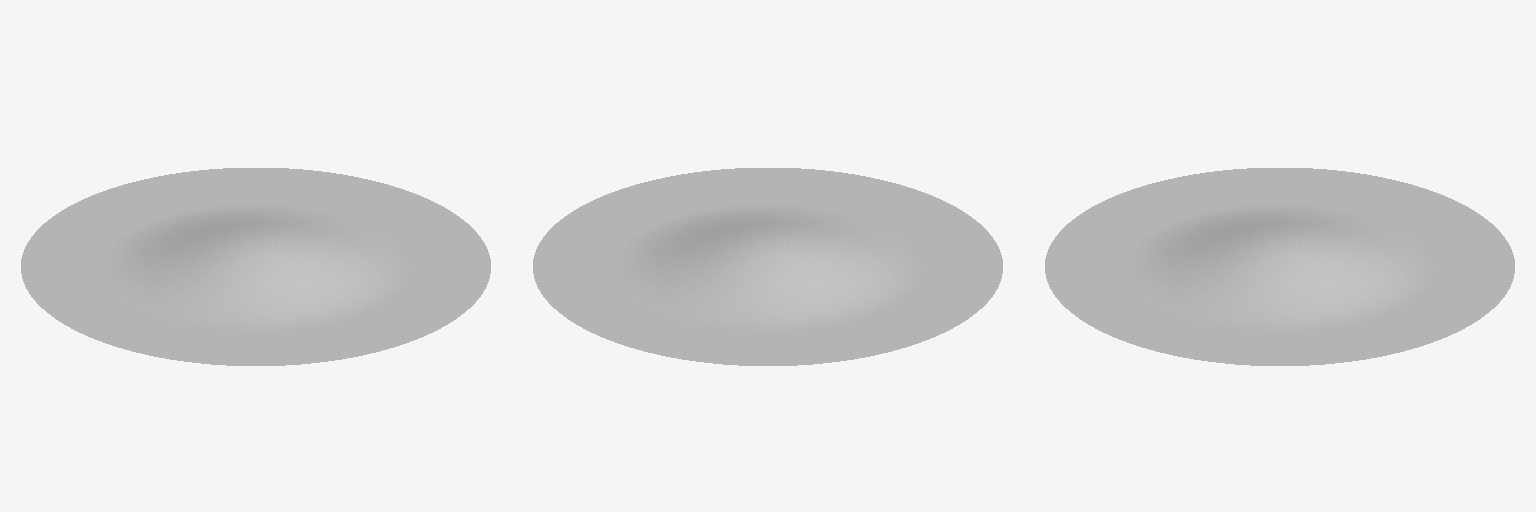
The model's file is grass.obj.
3 views of the same model, side by side, from view 1: azimuth 30°, elevation 25°; view 2: azimuth 150°, elevation 25°; view 3: azimuth 270°, elevation 25° (orthographic).
Parts seen in each view (by area): view 1: pDisc1; view 2: pDisc1; view 3: pDisc1.
Part boxes in pixels (x1,y1,x2,y2): pDisc1: (21, 168, 490, 365); pDisc1: (533, 168, 1002, 365); pDisc1: (1045, 168, 1514, 365).
Bounding box in the file's own units: 32.68 × 1.67 × 32.68.